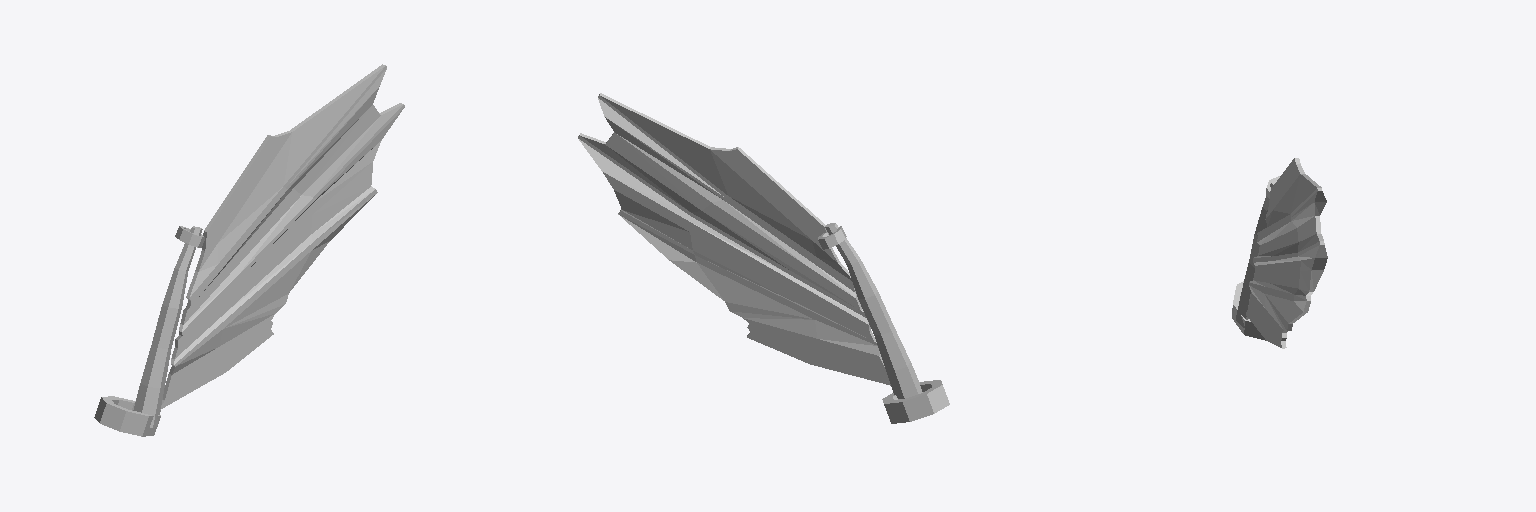
File: MICHELLE TAIL.obj
3 views of the same model, side by side, from view 1: azimuth 30°, elevation 25°; view 2: azimuth 150°, elevation 25°; view 3: azimuth 270°, elevation 25° (orthographic).
Size of the model in its own units: 20.53 by 16.29 by 5.03.